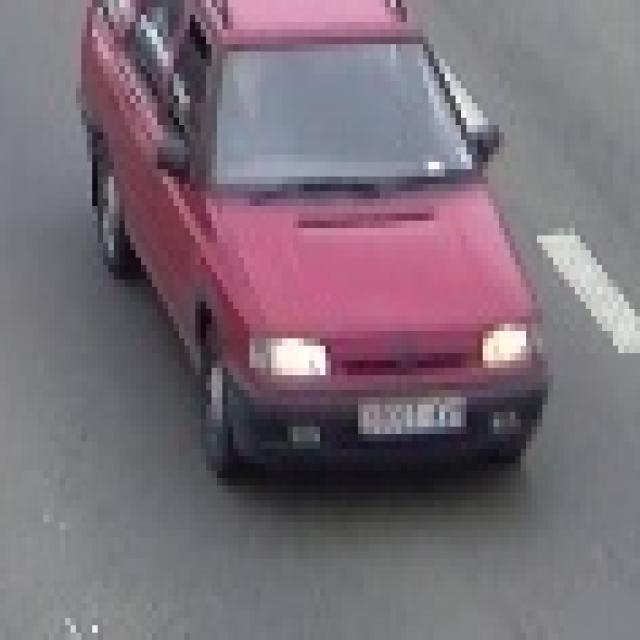maroon: (75, 0, 553, 463)
